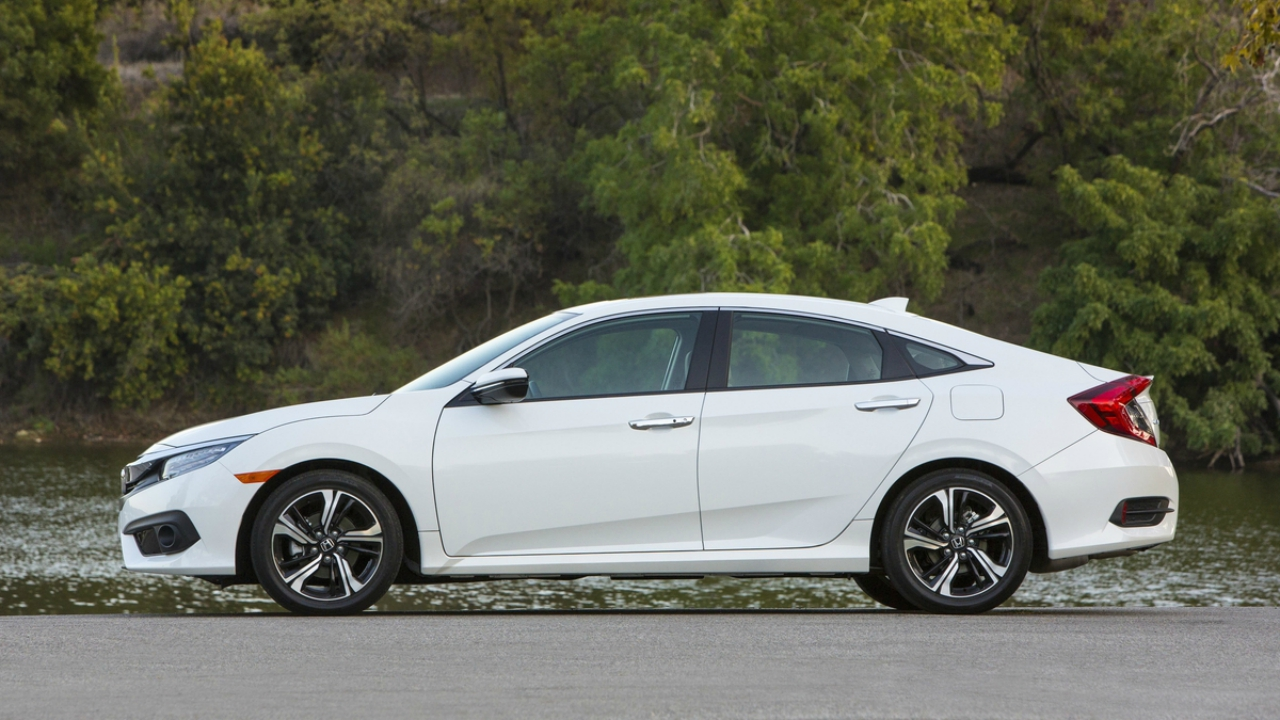car: (107, 289, 1180, 619)
